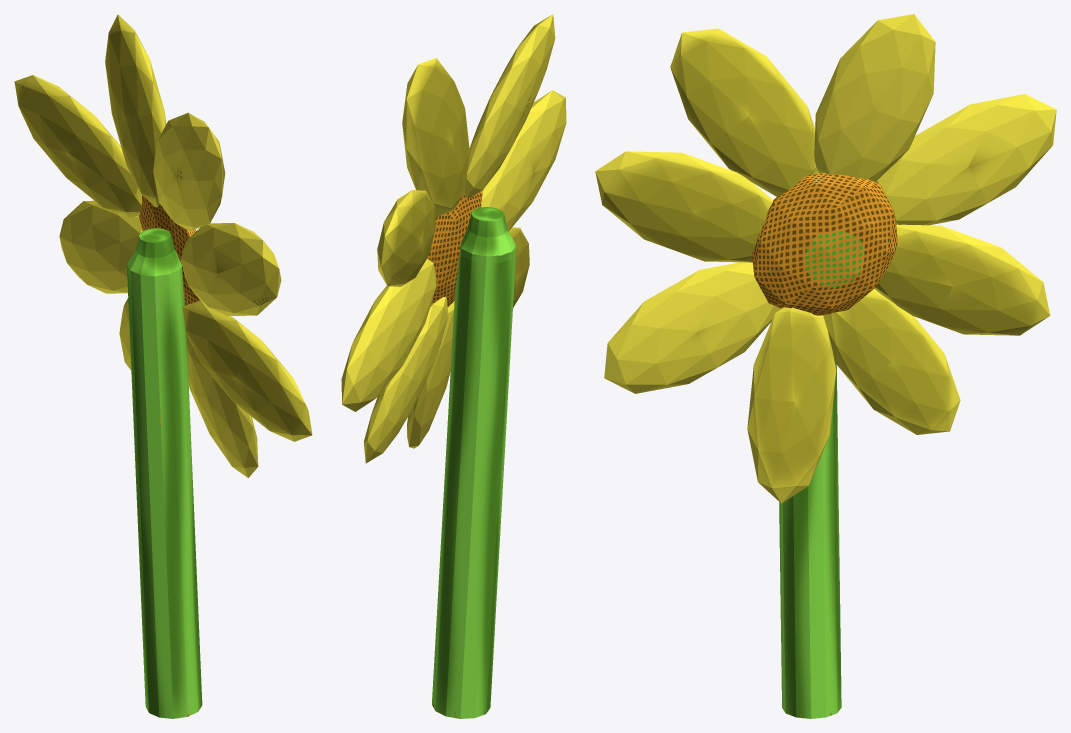
The model's file is Girasol.fbx.
3 views of the same model, side by side, from view 1: azimuth 30°, elevation 25°; view 2: azimuth 150°, elevation 25°; view 3: azimuth 270°, elevation 25° (orthographic). The views are drawn at different scales.
Parts seen in each view (by area): view 1: Girasol; view 2: Girasol; view 3: Girasol.
Part boxes in pixels (x1=…): Girasol: x1=14, y1=14, x2=312, y2=718; Girasol: x1=341, y1=14, x2=566, y2=718; Girasol: x1=595, y1=14, x2=1056, y2=718.
Bounding box in the file's own units: 6.98 × 40.15 × 24.28.
Materials: 1 (1 with a texture image).
